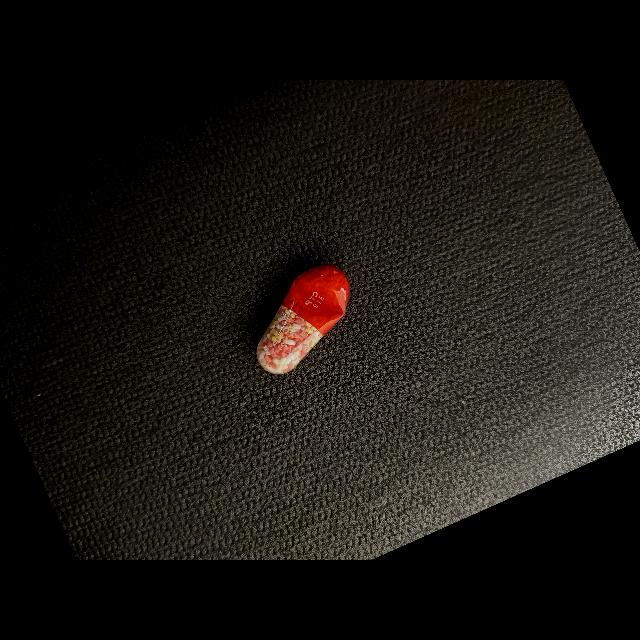Defective Capsule: (257, 265, 350, 374)
